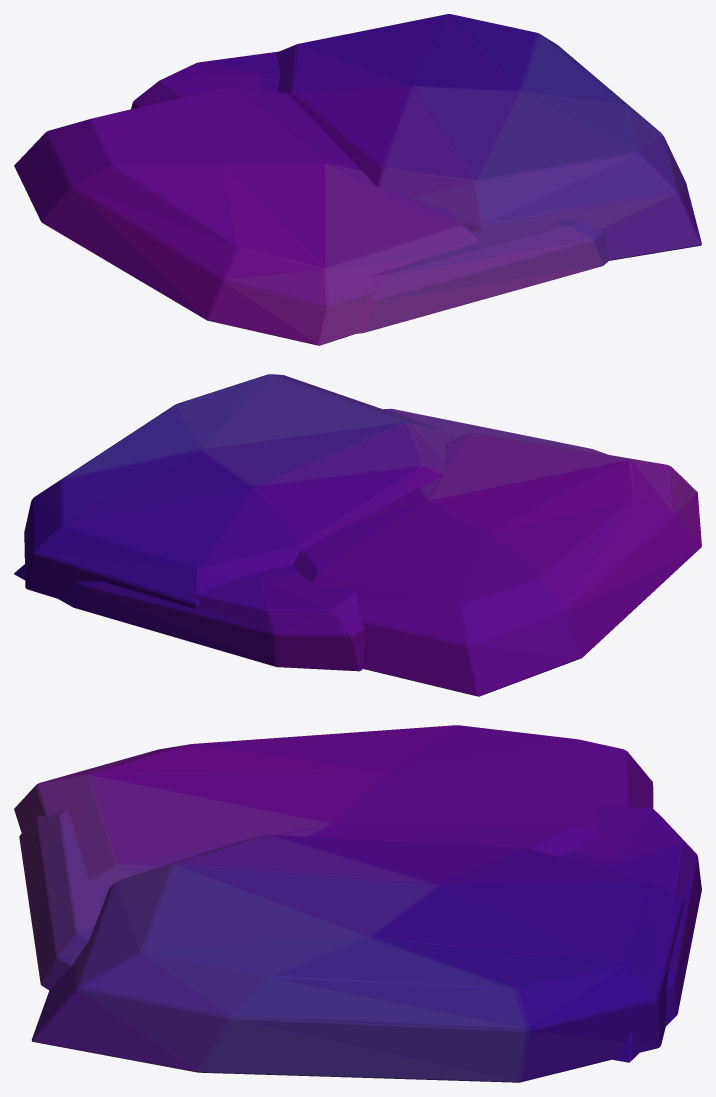
The model's file is SM_CinderCanyon_CliffMass_LOD1.fbx.
3 views of the same model, one above another, from view 1: azimuth 30°, elevation 25°; view 2: azimuth 150°, elevation 25°; view 3: azimuth 270°, elevation 25° (orthographic). The views are drawn at different scales.
Parts seen in each view (by area): view 1: SM_CinderCanyon_CliffMass_LOD1; view 2: SM_CinderCanyon_CliffMass_LOD1; view 3: SM_CinderCanyon_CliffMass_LOD1.
Part boxes in pixels (x1,y1,x2,y2): SM_CinderCanyon_CliffMass_LOD1: (14, 14, 701, 345); SM_CinderCanyon_CliffMass_LOD1: (14, 374, 701, 696); SM_CinderCanyon_CliffMass_LOD1: (14, 725, 701, 1082).
Bounding box in the file's own units: 100 × 90 × 12.
